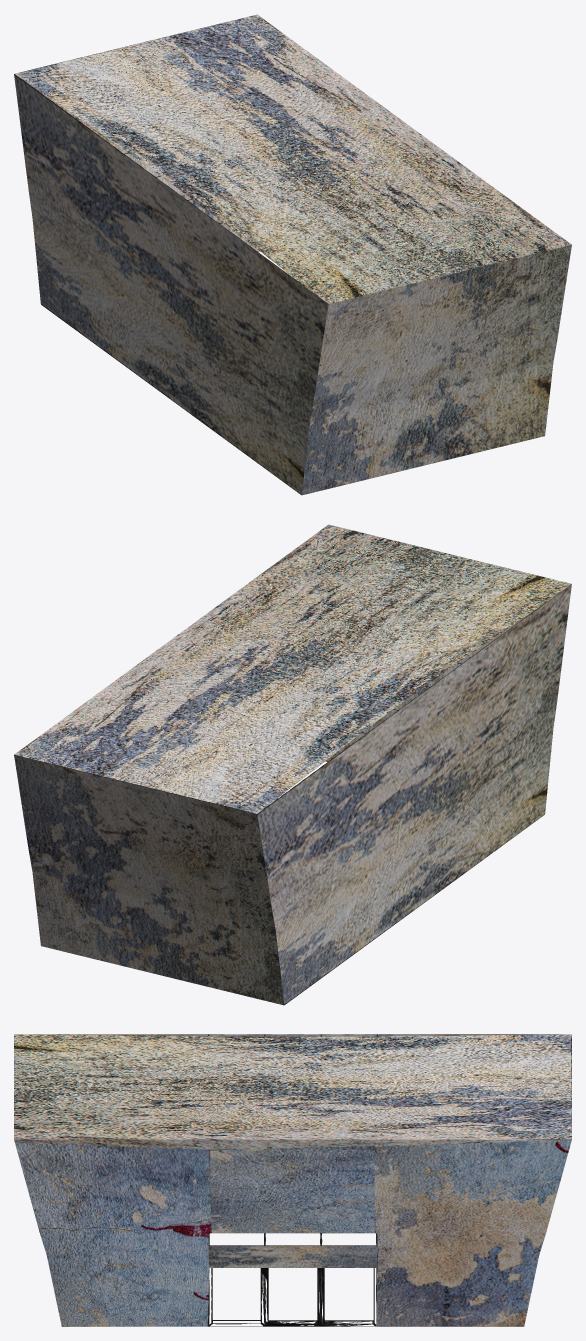
Rendered from flatbuildnig_001_1.fbx.
3 views of the same model, one above another, from view 1: azimuth 30°, elevation 25°; view 2: azimuth 150°, elevation 25°; view 3: azimuth 270°, elevation 25° (orthographic). The views are drawn at different scales.
Visible parts, largest first — view 1: flatbuilding.001; view 2: flatbuilding.001; view 3: flatbuilding.001.
Boxes of the visible parts, bbox=[...] form: flatbuilding.001: bbox=[14, 14, 571, 495]; flatbuilding.001: bbox=[14, 524, 571, 1005]; flatbuilding.001: bbox=[14, 1034, 571, 1326].
Bounding box in the file's own units: 640 × 474 × 1281.
